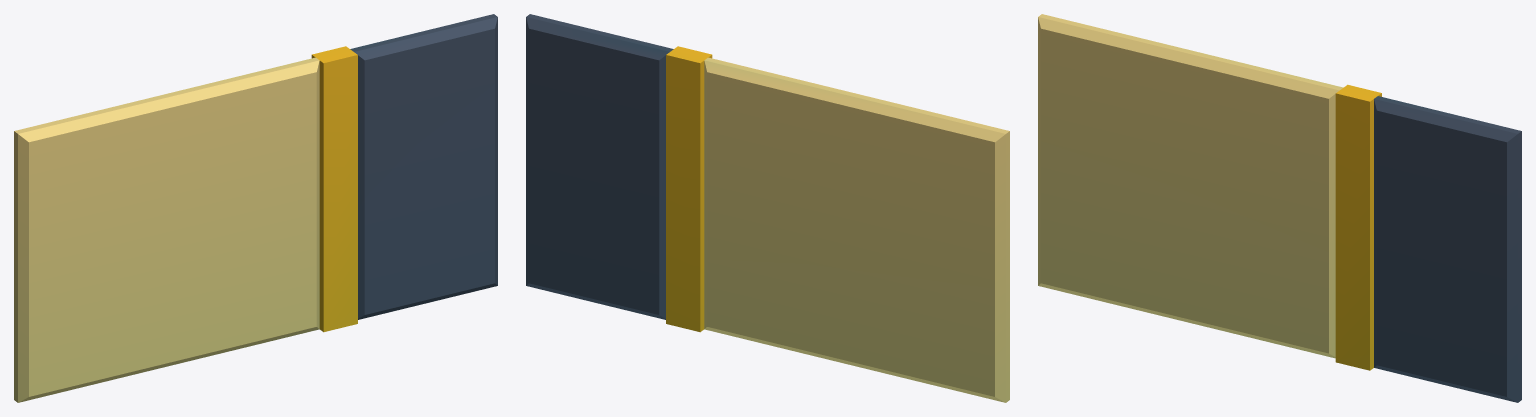
Rendered from Prop_Ticket.glb.
3 views of the same model, side by side, from view 1: azimuth 30°, elevation 25°; view 2: azimuth 150°, elevation 25°; view 3: azimuth 330°, elevation 25° (orthographic).
Parts seen in each view (by area): view 1: Prop_Ticket; view 2: Prop_Ticket; view 3: Prop_Ticket.
Boxes of the visible parts, x1,y1,x2,y2 form: Prop_Ticket: (14, 14, 497, 402); Prop_Ticket: (526, 14, 1009, 402); Prop_Ticket: (1038, 14, 1521, 402).
Bounding box in the file's own units: 0.14 × 0.075 × 0.006.
